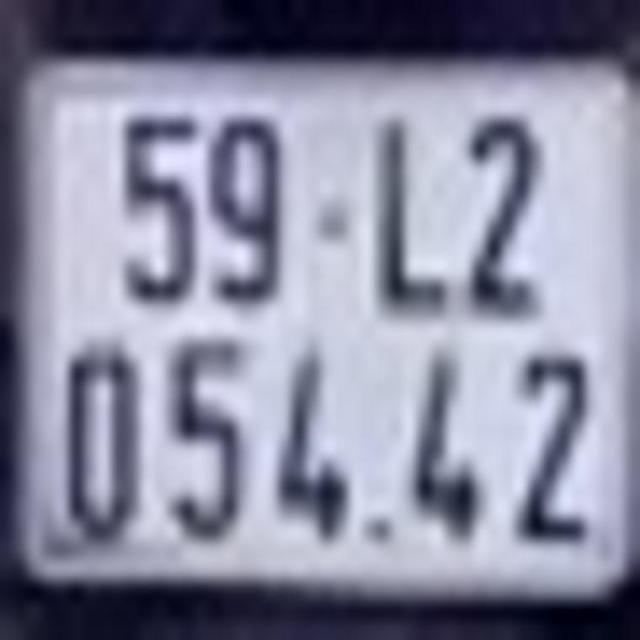0: (66, 346, 137, 541)
2: (467, 114, 542, 320), (515, 351, 592, 548)
4: (273, 342, 353, 542), (408, 342, 483, 548)
5: (170, 338, 242, 541), (120, 115, 197, 303)
9: (204, 117, 278, 304)
L: (375, 120, 451, 309)
